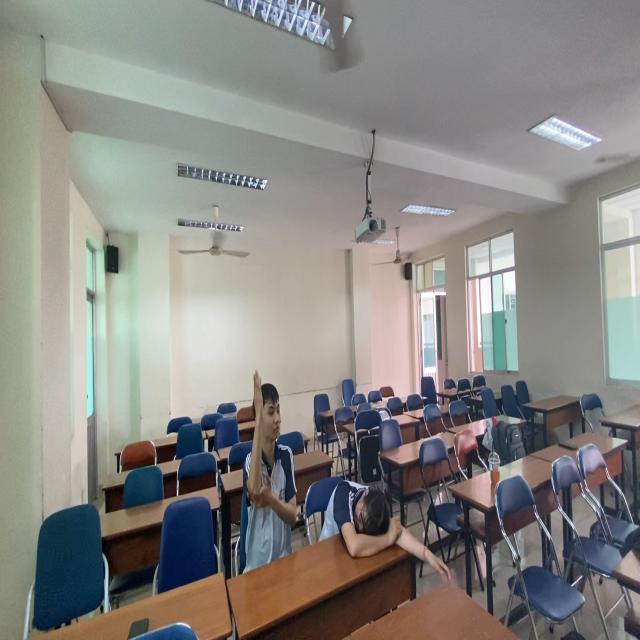raise_hand: (243, 366, 301, 572)
sleep: (319, 471, 416, 561)
